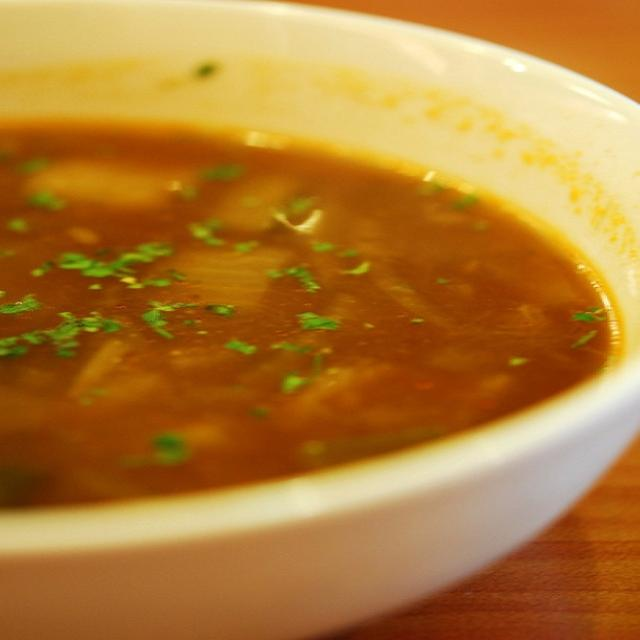汤锅炖物: (9, 29, 615, 613)
